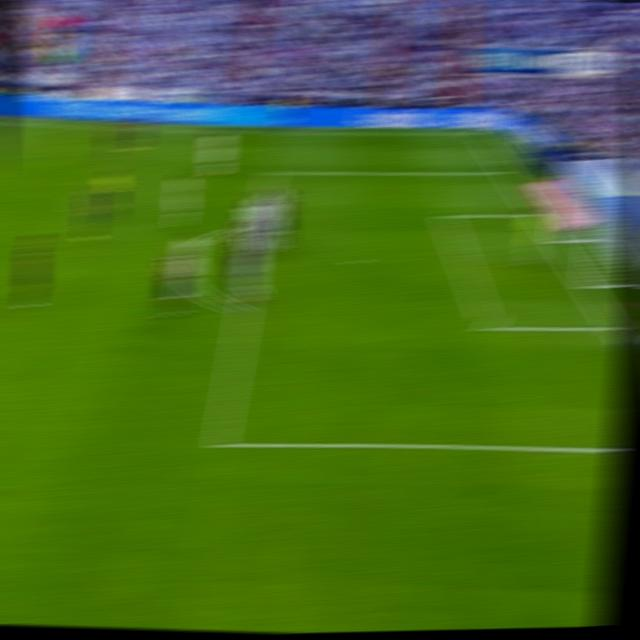bigarea_bottom_inner: (478, 312, 502, 340)
bigarea_top_inner: (262, 163, 280, 178)
bottom_arc_area_intersection: (605, 317, 626, 336)
corner: (470, 129, 490, 139)
